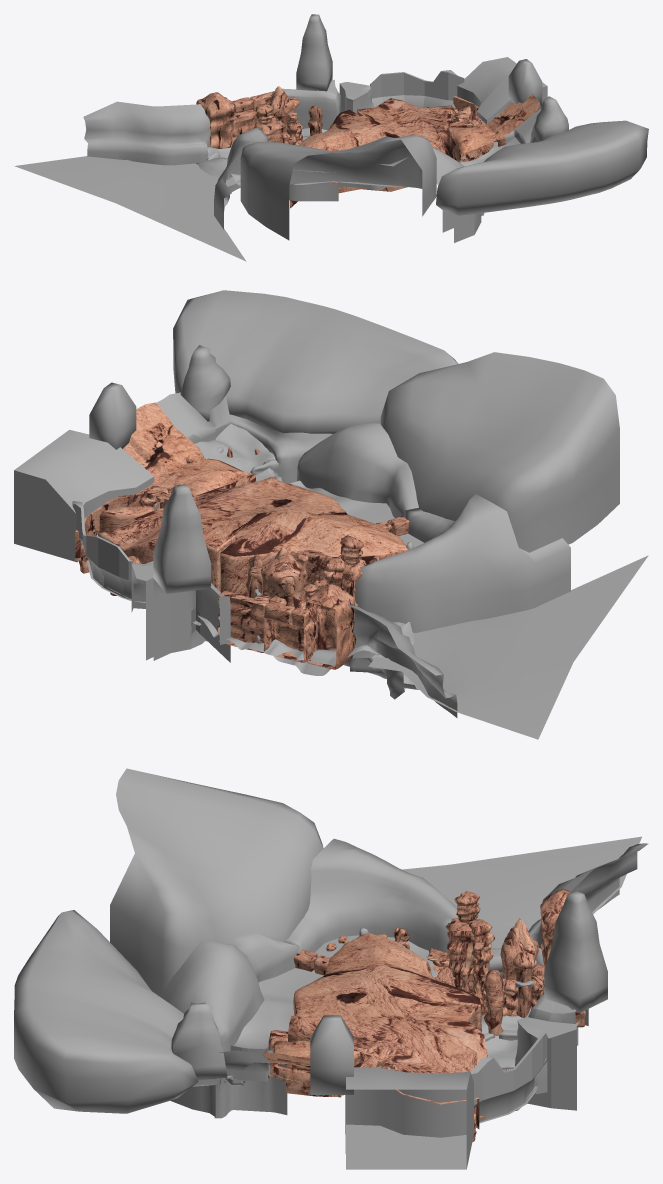
Rendered from CanyonV12.fbx.
The picture shows the model from 3 angles, top to bottom: view 1: azimuth 30°, elevation 25°; view 2: azimuth 150°, elevation 25°; view 3: azimuth 270°, elevation 25°; orthographic projection. The views are drawn at different scales.
Parts seen in each view (by area): view 1: pCube153, pCube152, pPlane1, pCube46, polySurface22, pCube102, pCube154, polySurface13, polySurface23, pCube157, pCube25, rockwall_a00 (+11 smaller); view 2: pCube152, pCube153, polySurface23, pPlane1, polySurface22, pCube154, polySurface9, polySurface13, pCube157, pCube25, pCube46, rockwall_a00 (+15 smaller); view 3: pCube152, pCube153, polySurface22, pCube154, polySurface23, pPlane1, polySurface9, pCube157, pCube47, pCube102, polySurface18, pCube156 (+16 smaller).
Part boxes in pixels (x1=…): pCube153: x1=436, y1=120, x2=648, y2=215; pCube152: x1=240, y1=134, x2=436, y2=240; pPlane1: x1=14, y1=156, x2=246, y2=261; pCube46: x1=83, y1=101, x2=210, y2=165; polySurface22: x1=290, y1=98, x2=455, y2=208; pCube102: x1=370, y1=70, x2=464, y2=107; pCube154: x1=457, y1=57, x2=547, y2=127; polySurface13: x1=448, y1=94, x2=540, y2=161; polySurface23: x1=214, y1=127, x2=338, y2=229; pCube157: x1=296, y1=14, x2=332, y2=91; pCube25: x1=282, y1=80, x2=340, y2=130; rockwall_a00: x1=196, y1=92, x2=234, y2=148; pCube152: x1=380, y1=352, x2=619, y2=552; pCube153: x1=173, y1=290, x2=458, y2=433; polySurface23: x1=354, y1=494, x2=570, y2=632; pPlane1: x1=368, y1=555, x2=648, y2=739; polySurface22: x1=98, y1=476, x2=408, y2=596; pCube154: x1=14, y1=430, x2=154, y2=562; polySurface9: x1=297, y1=423, x2=418, y2=518; polySurface13: x1=123, y1=402, x2=255, y2=496; pCube157: x1=153, y1=484, x2=210, y2=593; pCube25: x1=153, y1=579, x2=230, y2=662; pCube46: x1=347, y1=604, x2=457, y2=717; rockwall_a00: x1=304, y1=584, x2=356, y2=669; pCube152: x1=110, y1=768, x2=323, y2=996; pCube153: x1=14, y1=910, x2=198, y2=1113; polySurface22: x1=288, y1=933, x2=487, y2=1097; pCube154: x1=345, y1=1067, x2=473, y2=1169; polySurface23: x1=283, y1=838, x2=458, y2=952; pPlane1: x1=402, y1=836, x2=641, y2=948; polySurface9: x1=160, y1=931, x2=297, y2=1051; pCube157: x1=544, y1=890, x2=607, y2=1012; pCube47: x1=515, y1=1017, x2=576, y2=1110; pCube102: x1=470, y1=1032, x2=548, y2=1123; polySurface18: x1=230, y1=968, x2=323, y2=1054; pCube156: x1=310, y1=1015, x2=353, y2=1094.
Size of the model in its own units: 77800 by 23513 by 63732.
